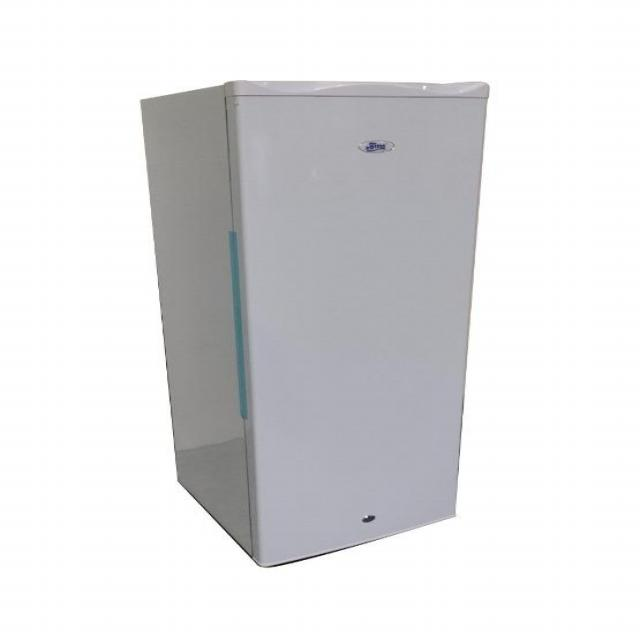refrigerator: (224, 80, 488, 559)
